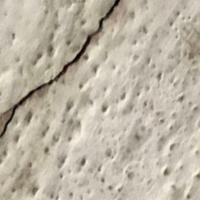crack: (0, 0, 124, 143)
